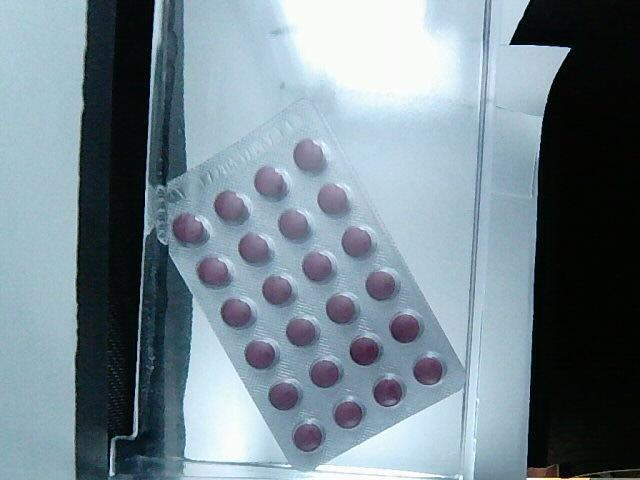Light Front: (156, 100, 464, 468)
Pill Front: (299, 247, 335, 284), (197, 253, 231, 288), (220, 295, 253, 329), (292, 139, 324, 173), (268, 379, 302, 411), (374, 376, 405, 410), (286, 314, 318, 346), (292, 422, 324, 454), (332, 398, 363, 431), (411, 355, 445, 385), (316, 182, 347, 214), (239, 232, 270, 264), (244, 338, 275, 370), (172, 213, 205, 243), (261, 273, 291, 306), (390, 312, 420, 345), (213, 190, 244, 221), (341, 227, 373, 257), (366, 269, 396, 301), (348, 335, 380, 365), (253, 167, 284, 197), (327, 294, 358, 324), (309, 358, 340, 388), (278, 209, 309, 237)
